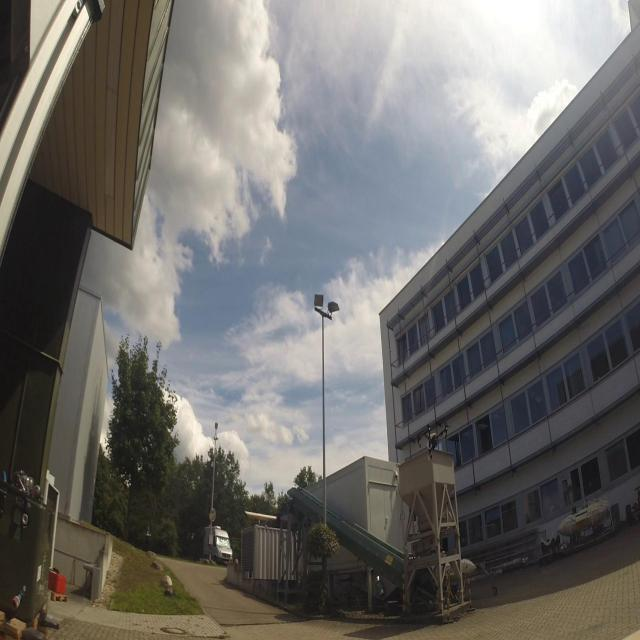drone: (410, 418, 456, 464)
